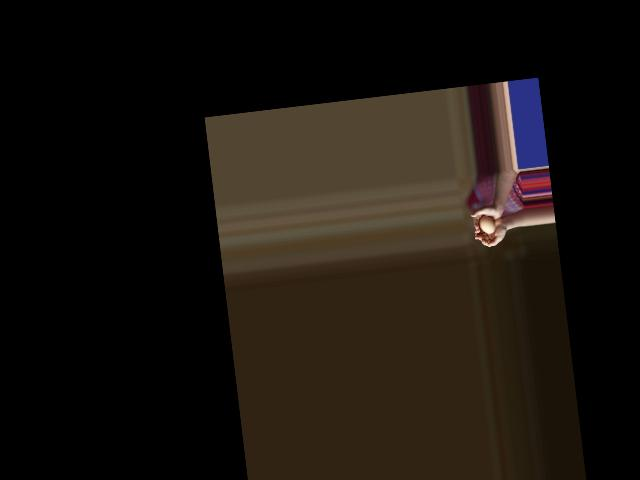egg: (478, 214, 495, 234)
